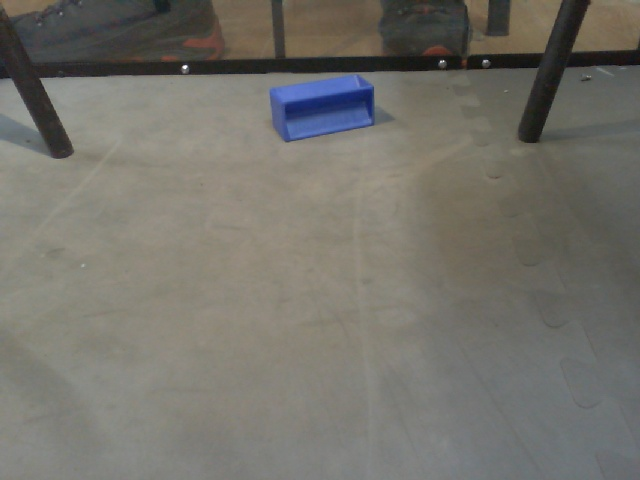BlueSample: (266, 72, 378, 142)
